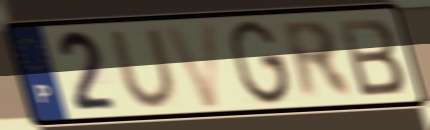2: (56, 25, 128, 119)
B: (334, 15, 407, 99)
G: (227, 18, 294, 108)
R: (277, 18, 359, 103)
U: (105, 26, 183, 111)
V: (160, 19, 224, 111)
